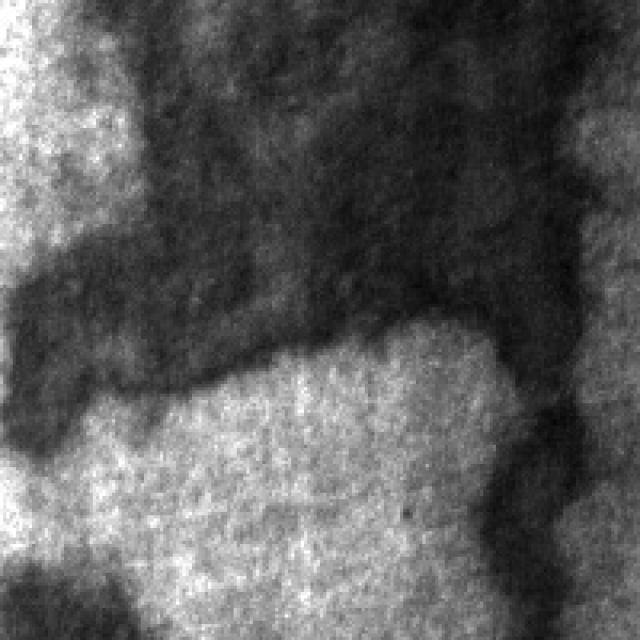patches: (0, 0, 509, 410), (458, 0, 611, 413), (471, 387, 598, 627), (0, 540, 138, 634)
